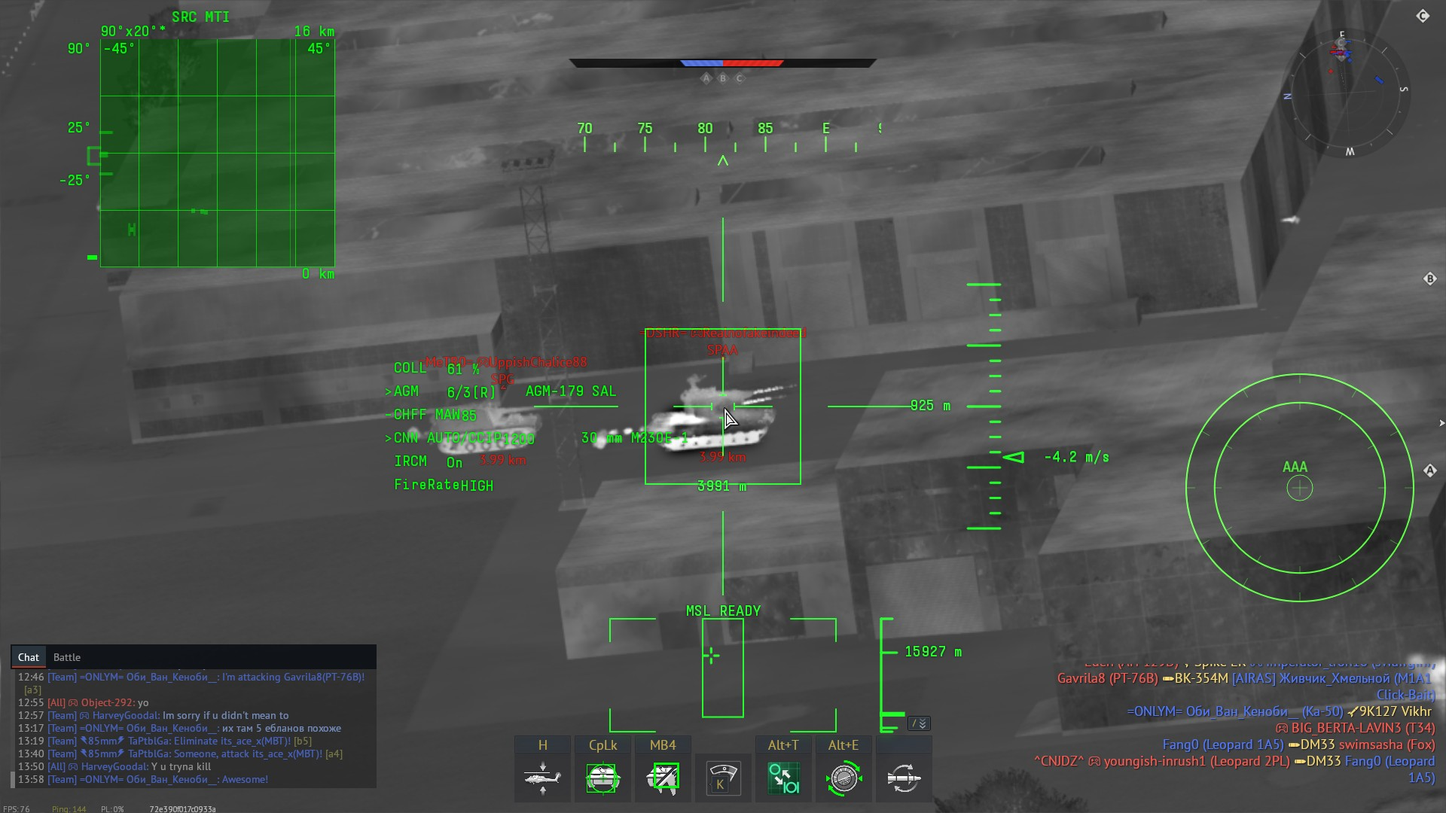spaa_gepard: (642, 373, 798, 457)
